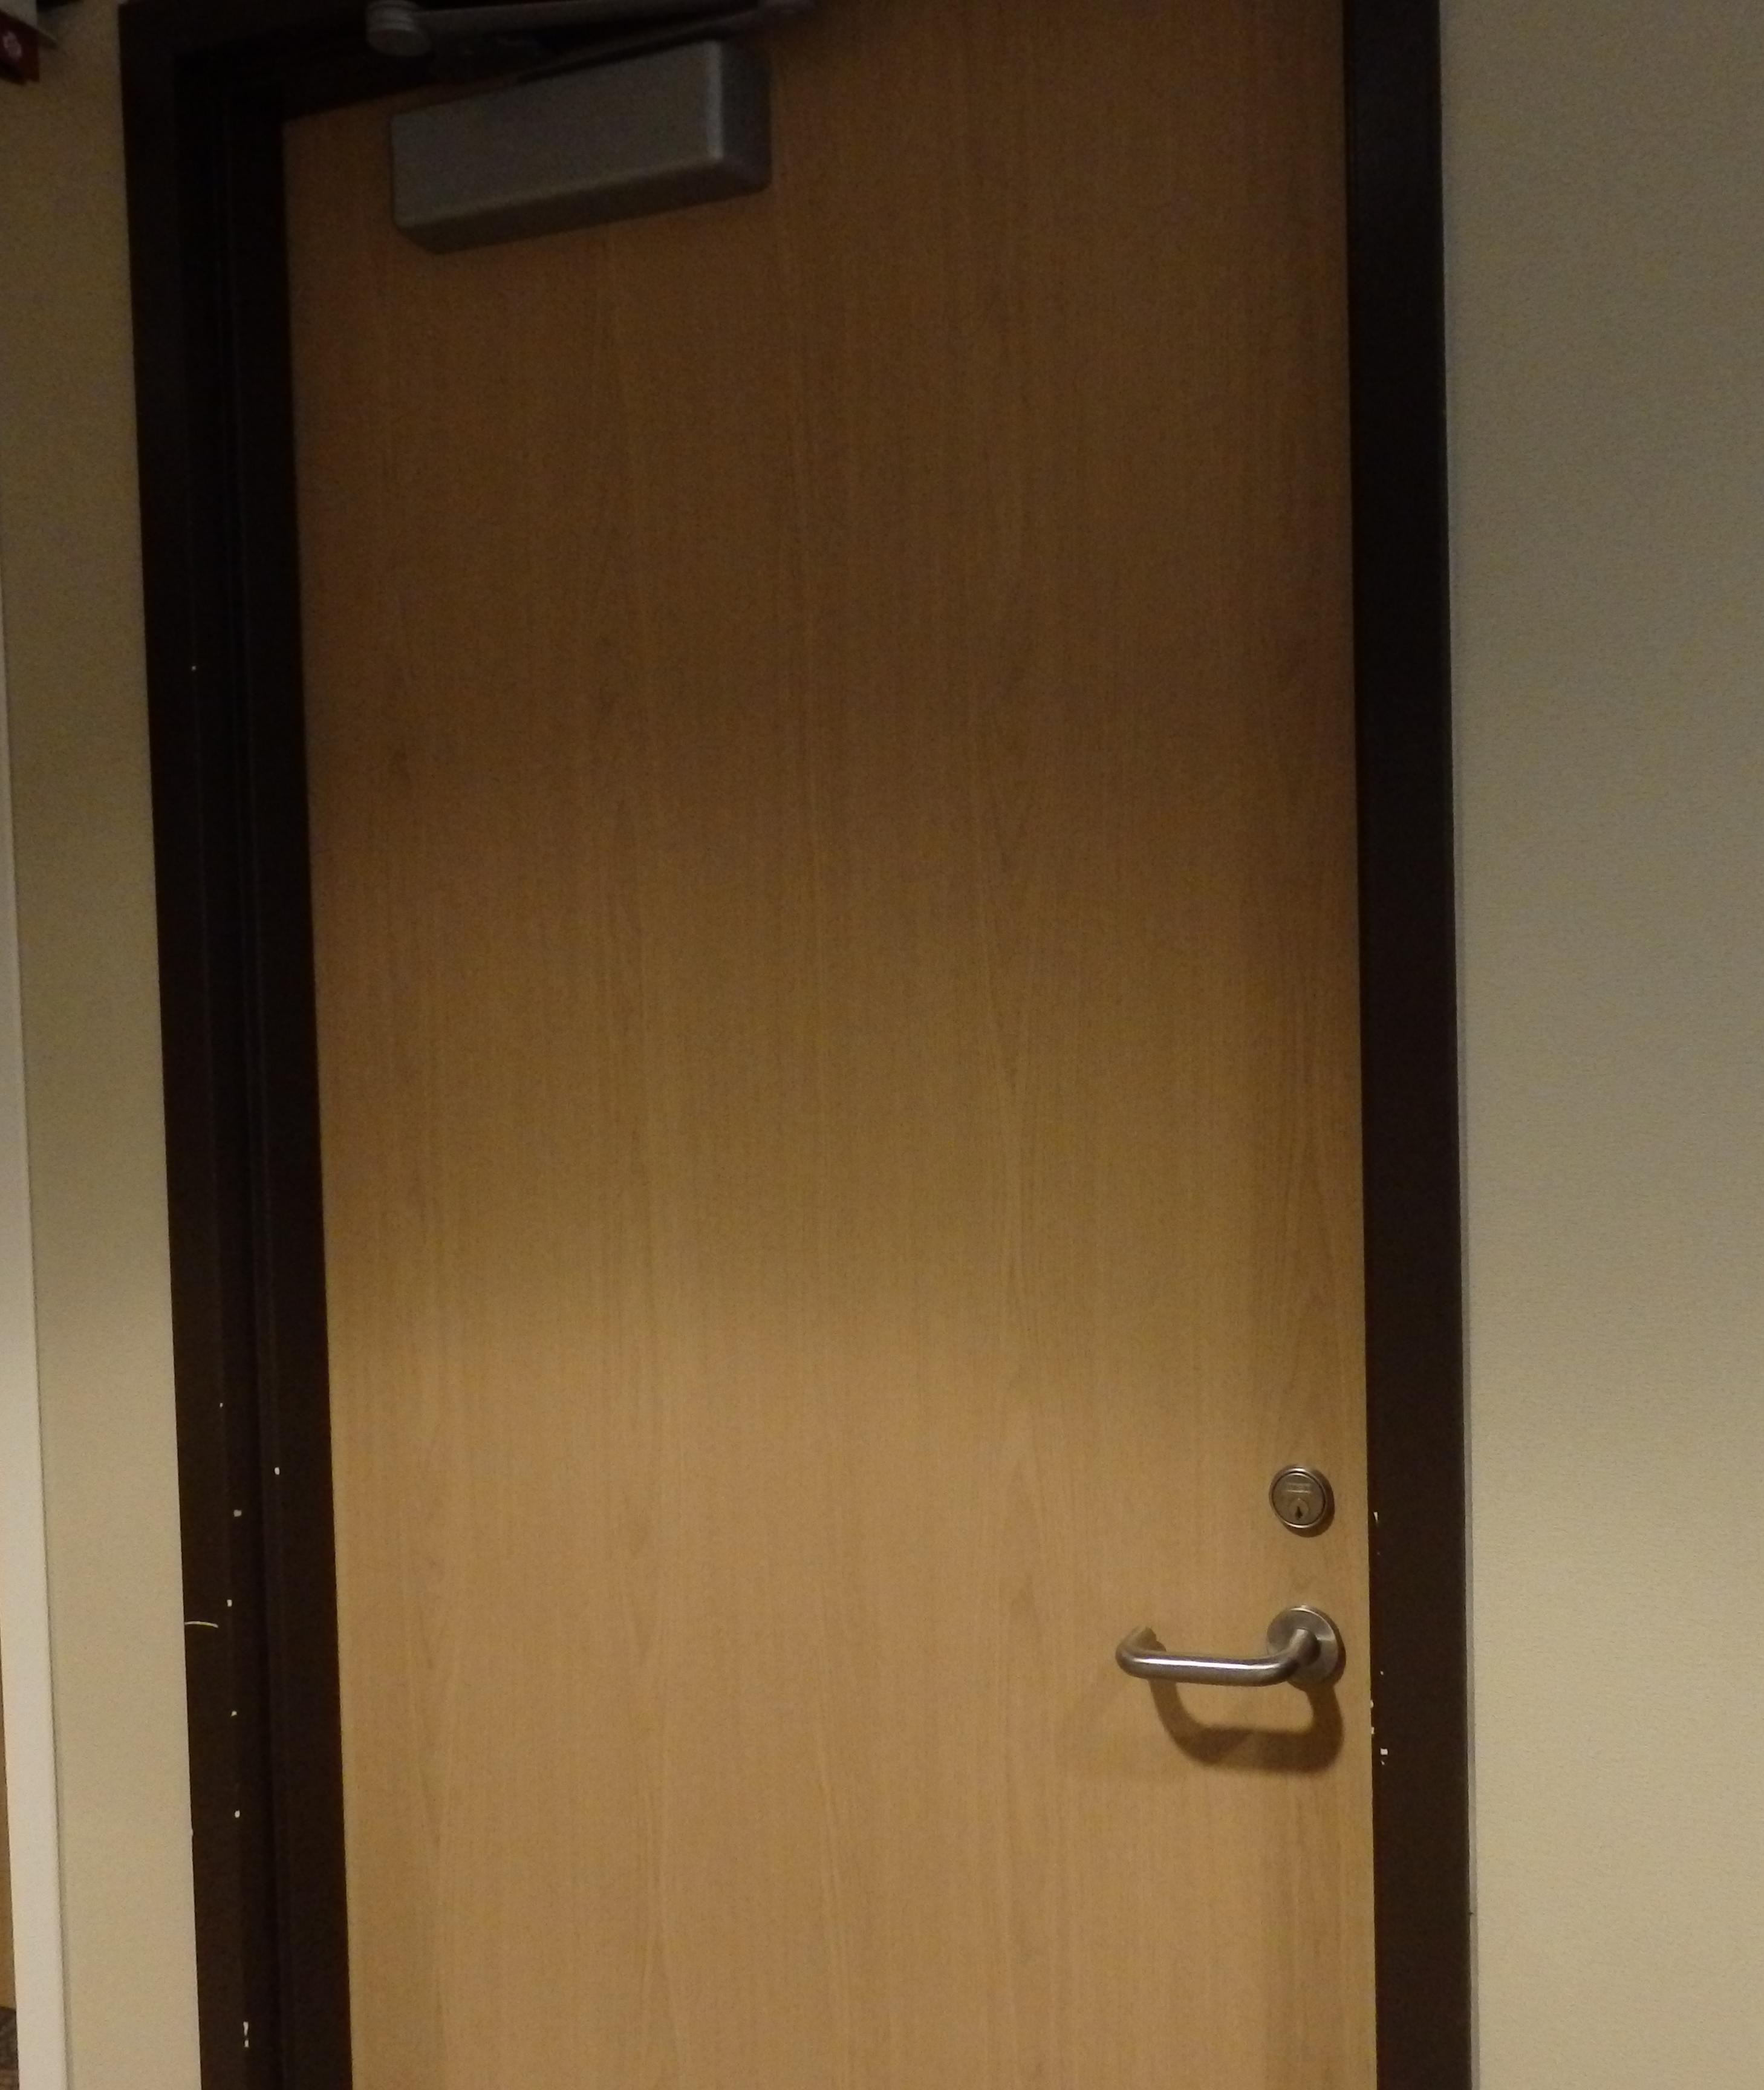door: (270, 28, 1389, 2086)
